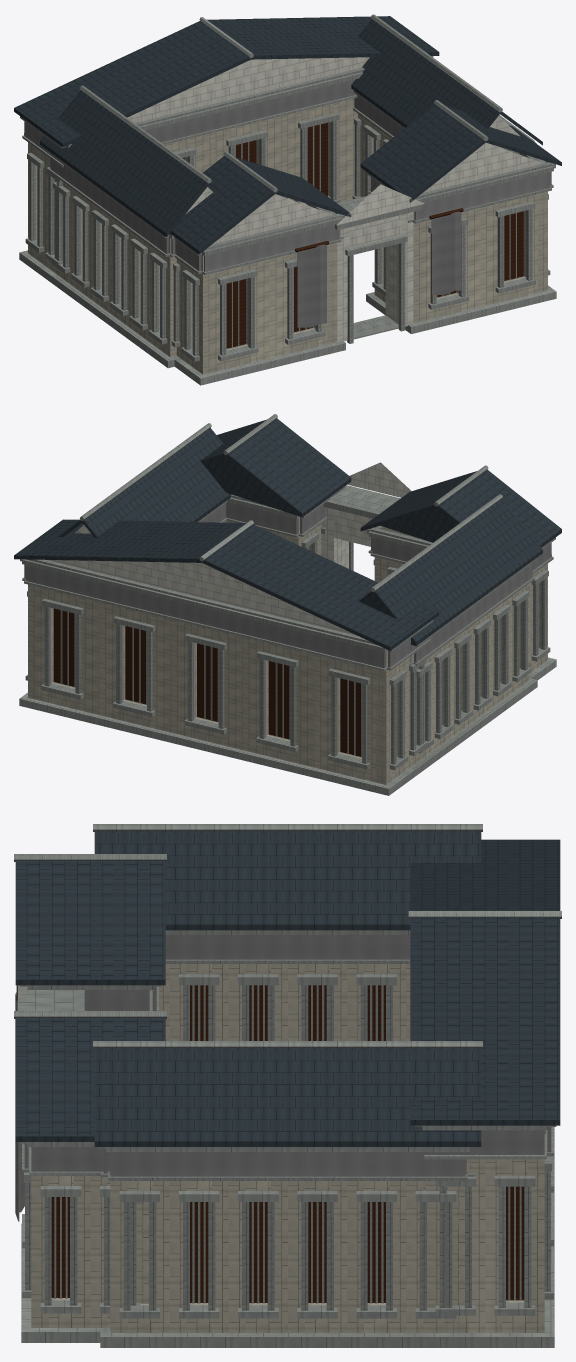
Rendered from military_academy.glb.
3 views of the same model, one above another, from view 1: azimuth 30°, elevation 25°; view 2: azimuth 150°, elevation 25°; view 3: azimuth 270°, elevation 25° (orthographic). The views are drawn at different scales.
Visible parts, largest first — view 1: LOD0; view 2: LOD0; view 3: LOD0.
Part boxes in pixels (<box>): LOD0: <box>14,14,561,385</box>; LOD0: <box>14,414,561,795</box>; LOD0: <box>14,824,561,1347</box>.
Size of what is drawn, in the model's own units: 1.68 by 0.8337 by 1.39.
Materials: 2 (2 with a texture image).
